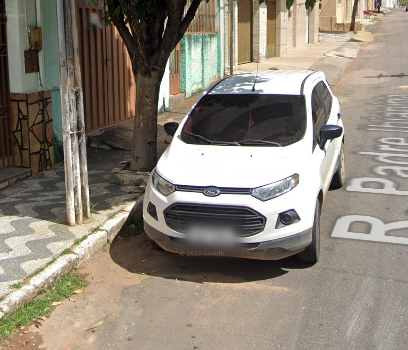car: (135, 57, 353, 275)
